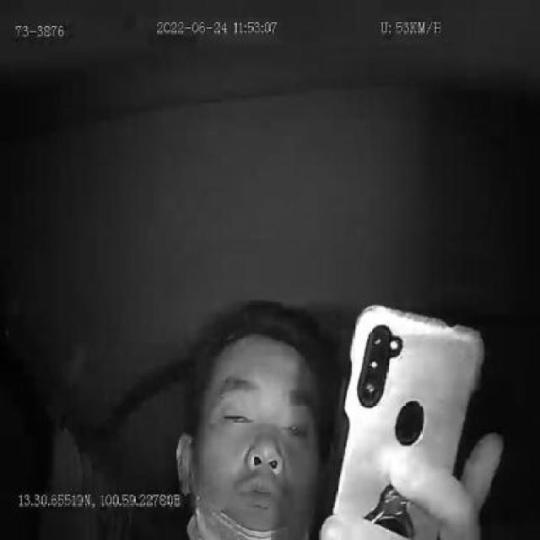phone: (328, 304, 484, 540)
